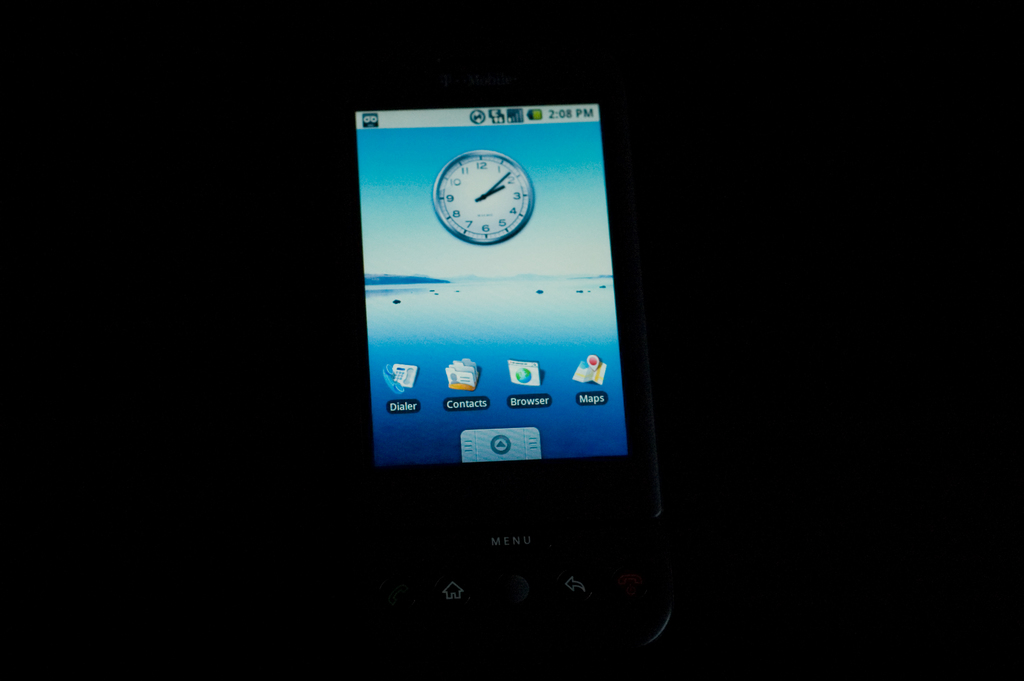mobile phone: (340, 40, 663, 598)
